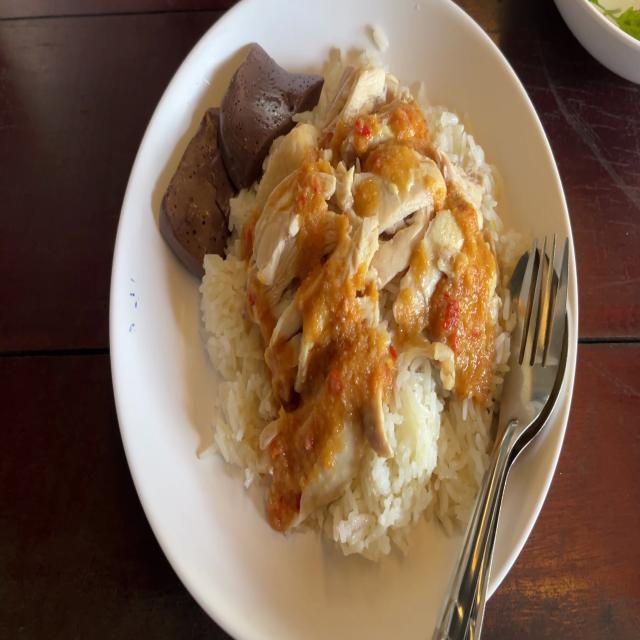chicken_rice: (267, 117, 456, 422)
noodle: (164, 110, 240, 280), (231, 51, 315, 172)
